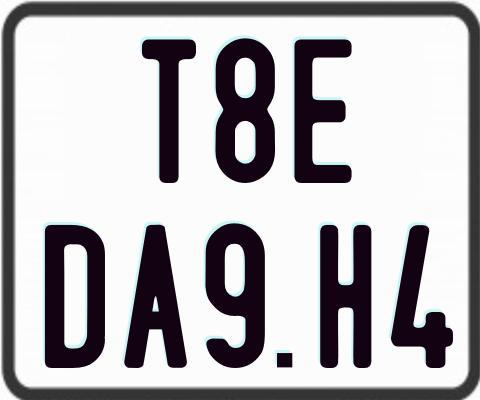4: (388, 224, 451, 369)
8: (213, 38, 273, 183)
9: (203, 222, 269, 373)
A: (123, 225, 186, 373)
D: (43, 223, 108, 368)
E: (291, 39, 351, 183)
H: (319, 224, 376, 372)
T: (139, 37, 199, 183)
